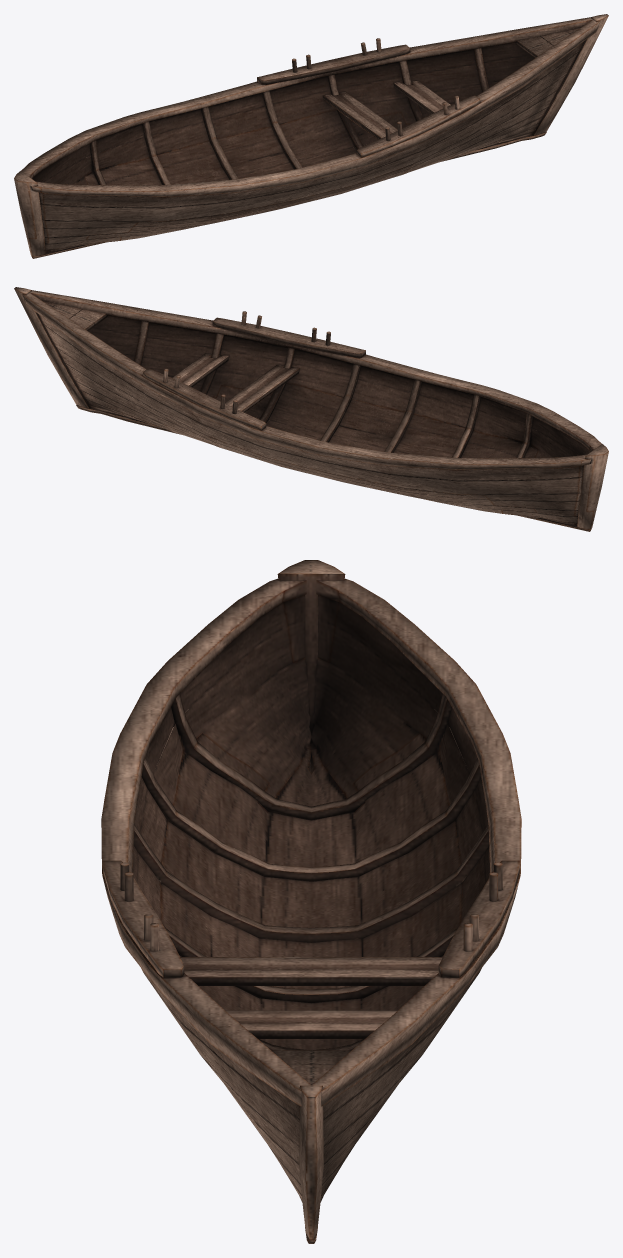
File: WoodBoat2.fbx
The picture shows the model from 3 angles, top to bottom: view 1: azimuth 30°, elevation 25°; view 2: azimuth 150°, elevation 25°; view 3: azimuth 270°, elevation 25°; orthographic projection. The views are drawn at different scales.
Visible parts, largest first — view 1: WoodBoat; view 2: WoodBoat; view 3: WoodBoat.
Boxes of the visible parts, box(x1,y1,x2,y2) form: WoodBoat: box(14, 14, 608, 258); WoodBoat: box(14, 287, 608, 531); WoodBoat: box(101, 560, 521, 1243).
Bounding box in the file's own units: 6.48 × 1.1 × 1.99.
